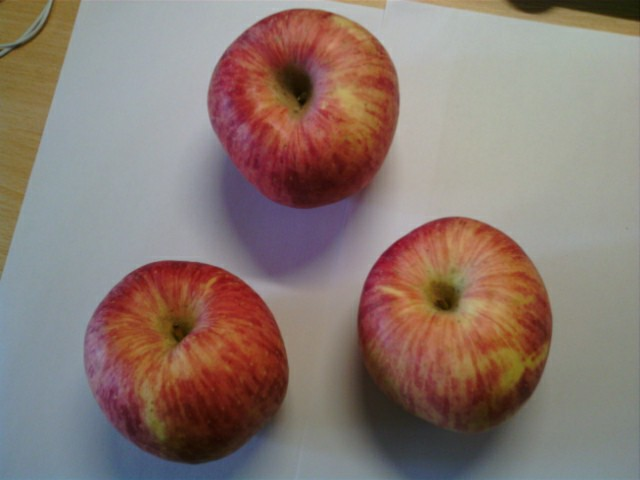normal_apple: (85, 258, 291, 465), (358, 216, 556, 430), (206, 9, 401, 207)
